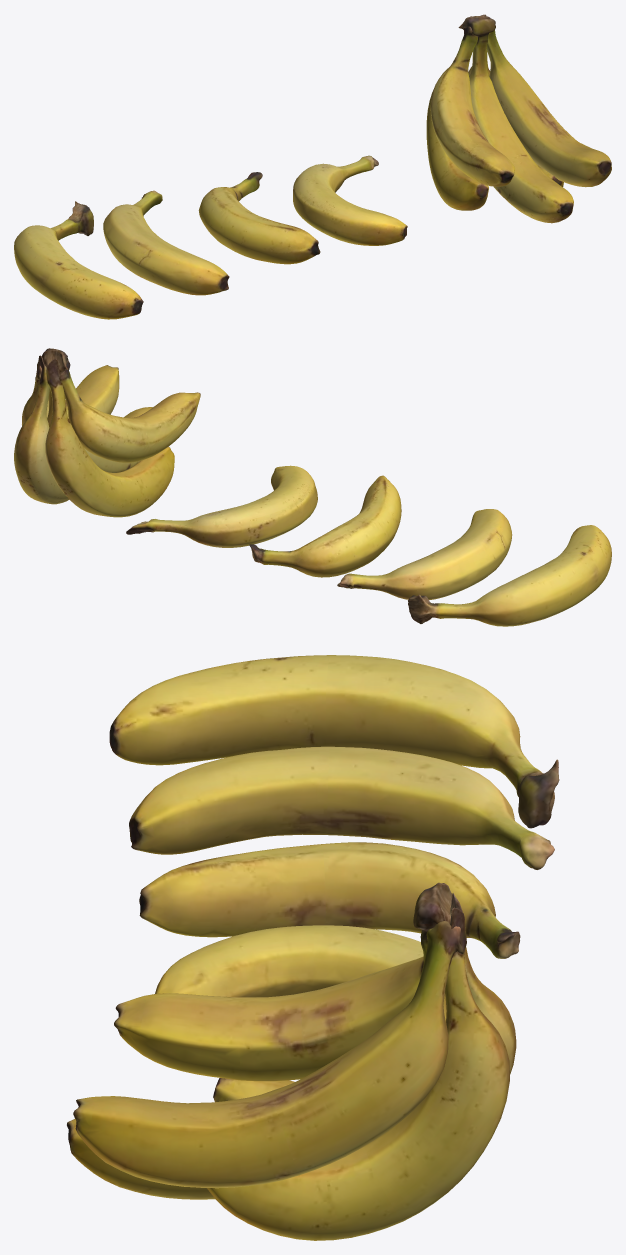
File: bananas.glb
3 views of the same model, one above another, from view 1: azimuth 30°, elevation 25°; view 2: azimuth 150°, elevation 25°; view 3: azimuth 270°, elevation 25° (orthographic). The views are drawn at different scales.
Visible parts, largest first — view 1: bananas_bunch; view 2: bananas_bunch; view 3: bananas_bunch.
Part boxes in pixels (bbox=[...]): bananas_bunch: bbox=[14, 14, 611, 319]; bananas_bunch: bbox=[14, 348, 611, 626]; bananas_bunch: bbox=[67, 655, 559, 1240].
Size of the model in its own units: 0.6 by 0.1787 by 0.2441.
Materials: 1 (1 with a texture image).
